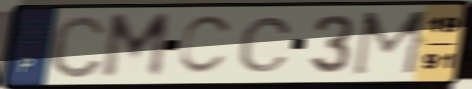3: (306, 13, 359, 75)
C: (46, 12, 109, 81), (175, 13, 237, 78), (236, 15, 296, 75)
M: (348, 8, 434, 79), (97, 10, 174, 82)
